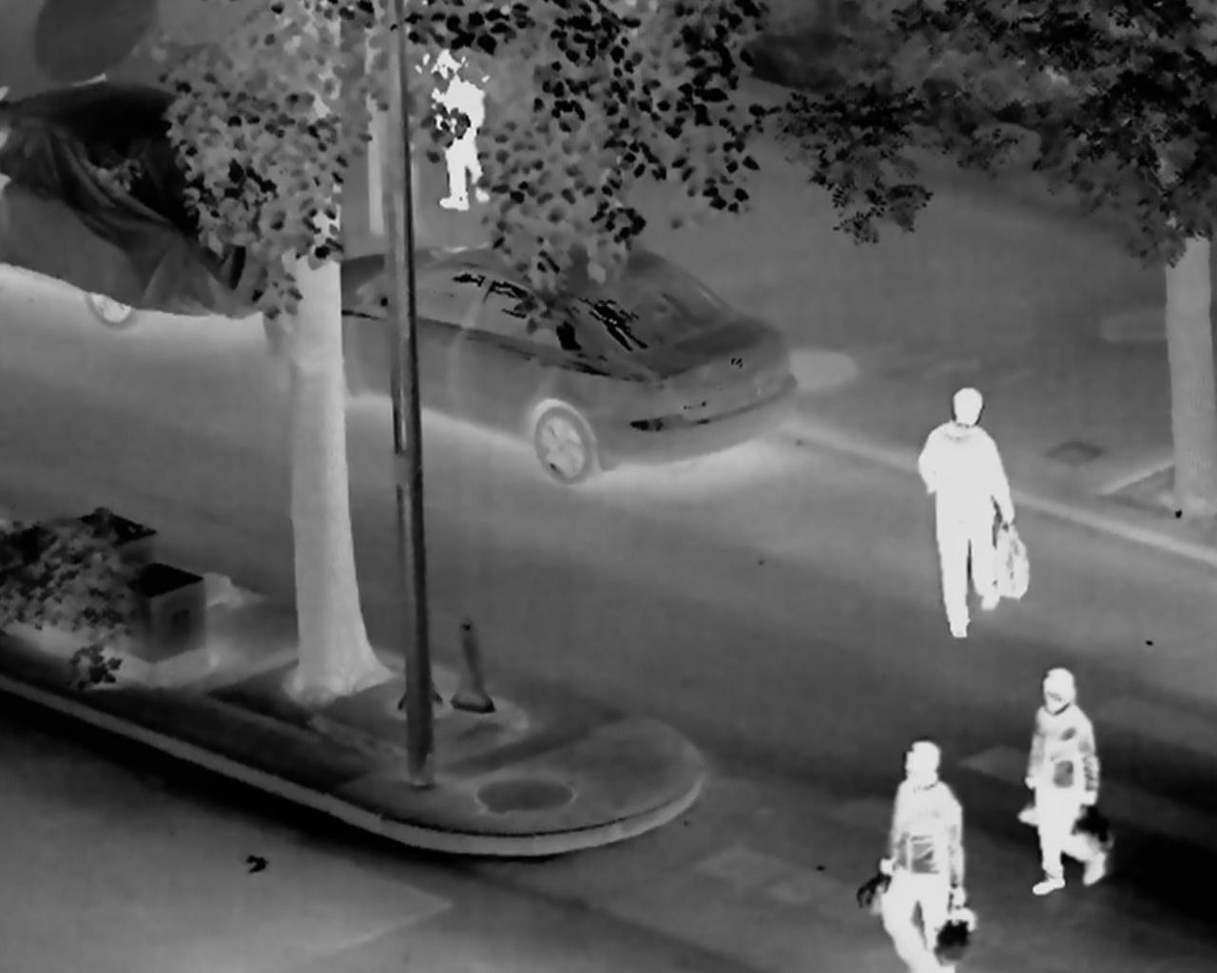person: (911, 386, 1024, 640), (858, 740, 975, 973), (1016, 666, 1106, 896), (418, 25, 496, 215)
